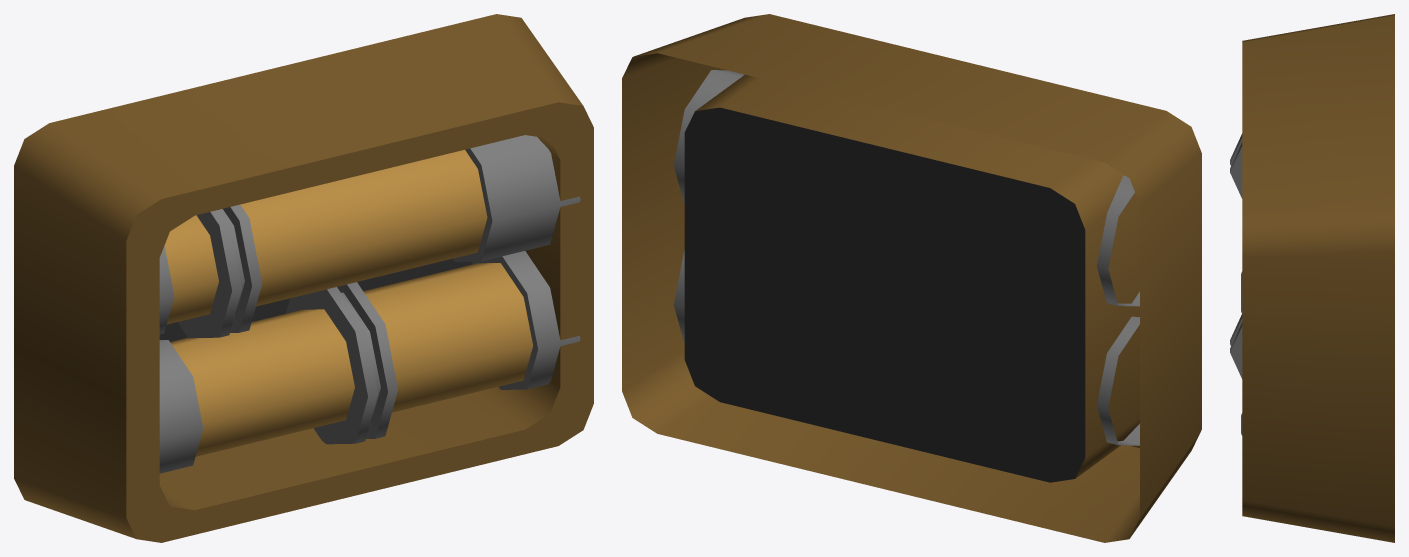
Rendered from Details_Pipes_Small.glb.
3 views of the same model, side by side, from view 1: azimuth 30°, elevation 25°; view 2: azimuth 150°, elevation 25°; view 3: azimuth 270°, elevation 25° (orthographic). The views are drawn at different scales.
Visible parts, largest first — view 1: Details_Pipes_Small; view 2: Details_Pipes_Small; view 3: Details_Pipes_Small.
Part boxes in pixels (x1,y1,x2,y2): Details_Pipes_Small: (14, 14, 593, 542); Details_Pipes_Small: (622, 14, 1201, 542); Details_Pipes_Small: (1230, 14, 1394, 542).
Size of the model in its own units: 0.1191 by 0.0837 by 0.0375.
